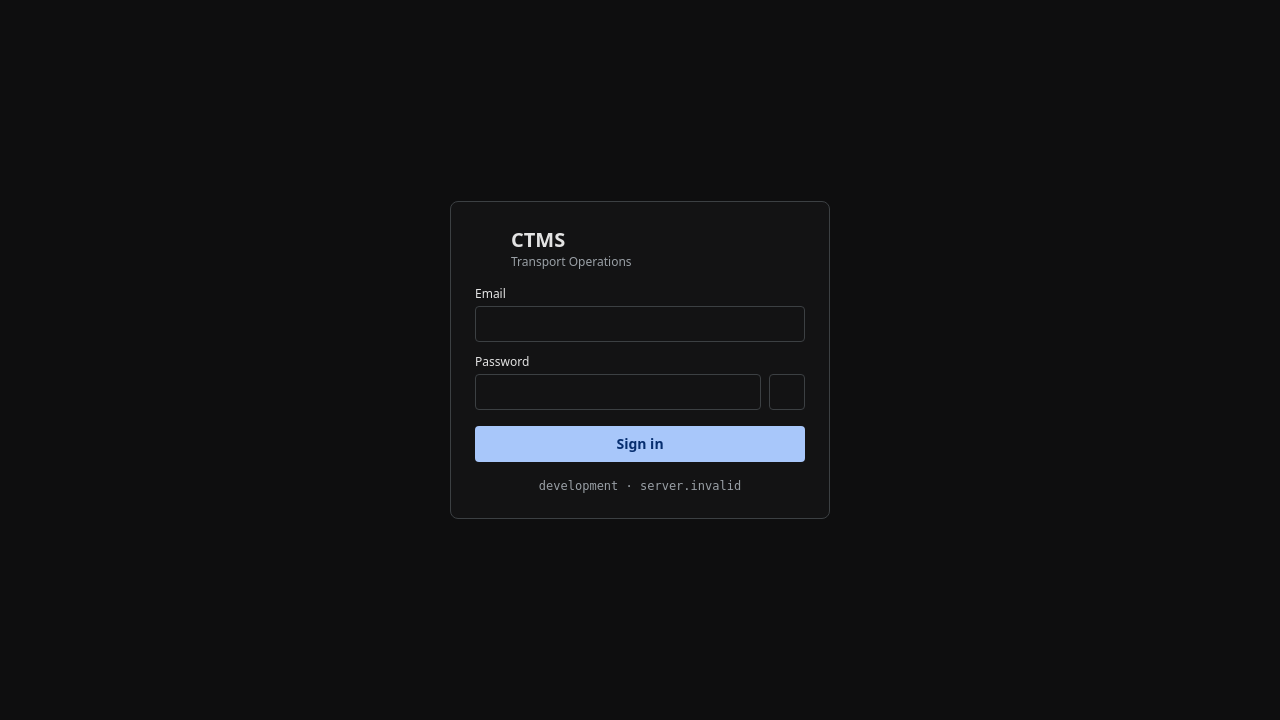
it: signing in › reaches the panel with a valid administrator
This screenshot has width=1280, height=720.
Check: the button "Sign in" is shown, box [475,426,805,462]
In the field labelled "Email": (640,324) [475,306,805,342], type "priya@ctms.example"
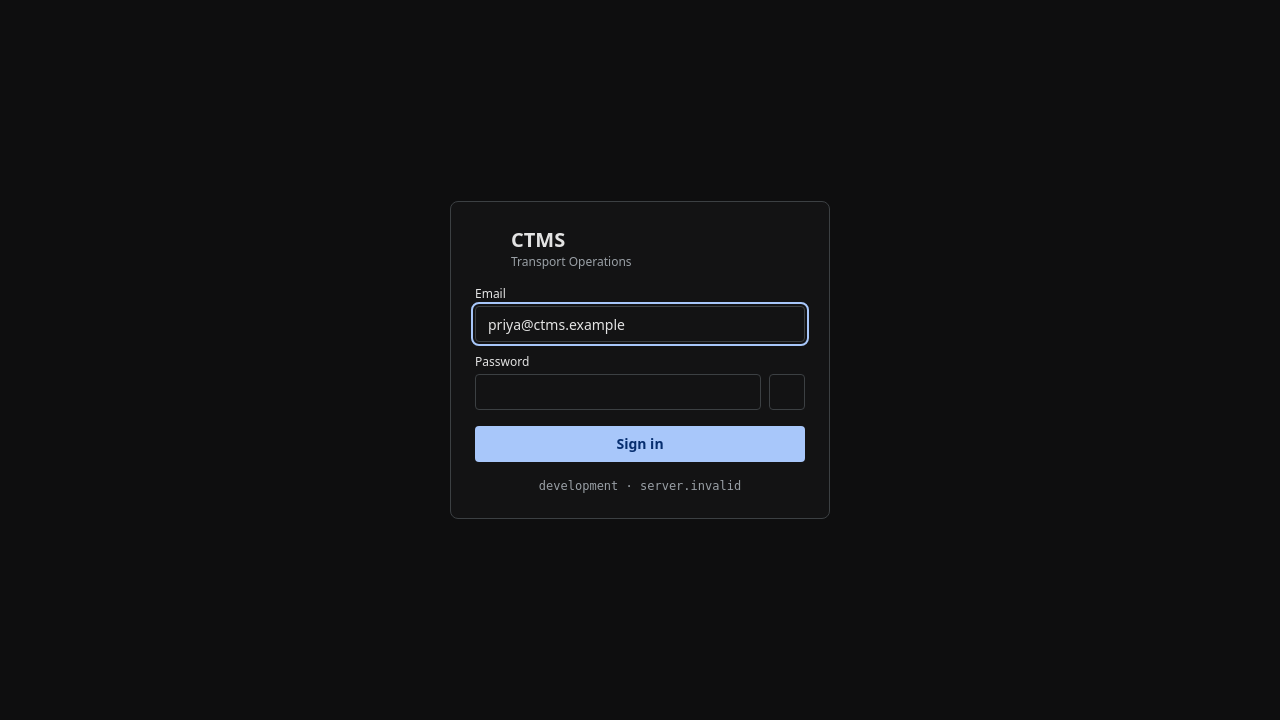
In the password field labelled "Password": (618,392) [475,374,761,410], type "correct-horse"
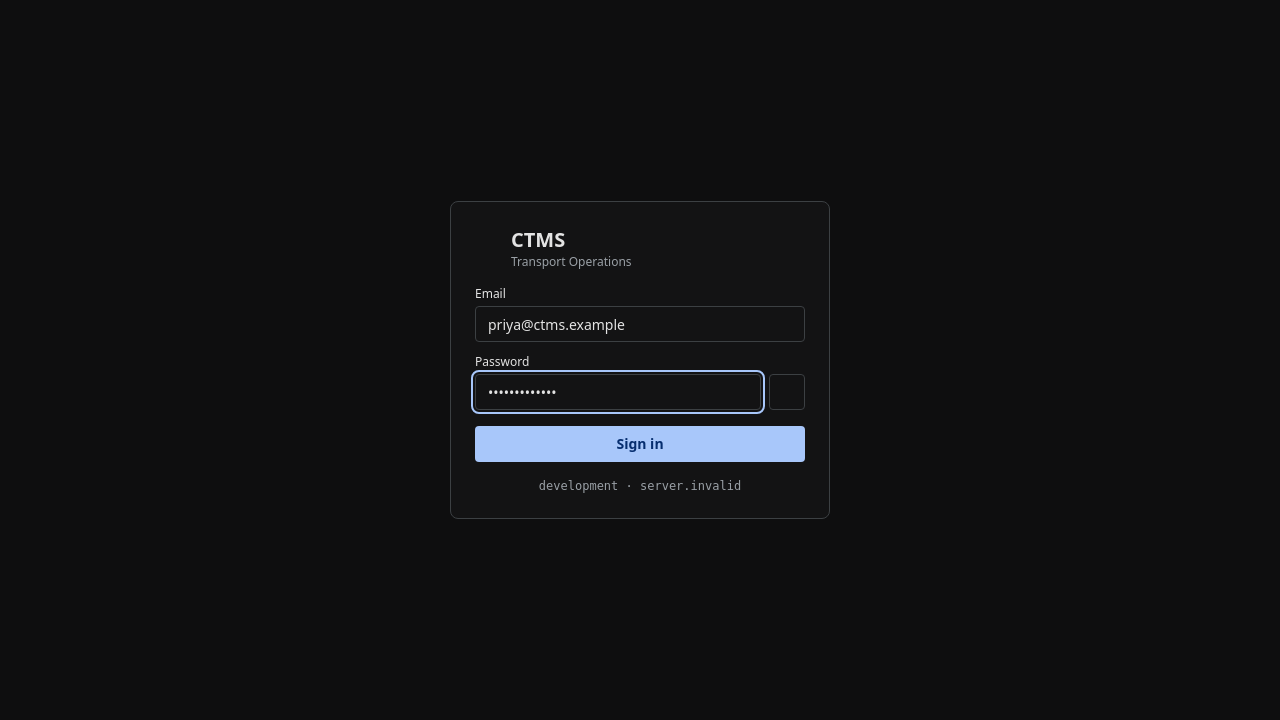
Click the button "Sign in": (640,444) [475,426,805,462]
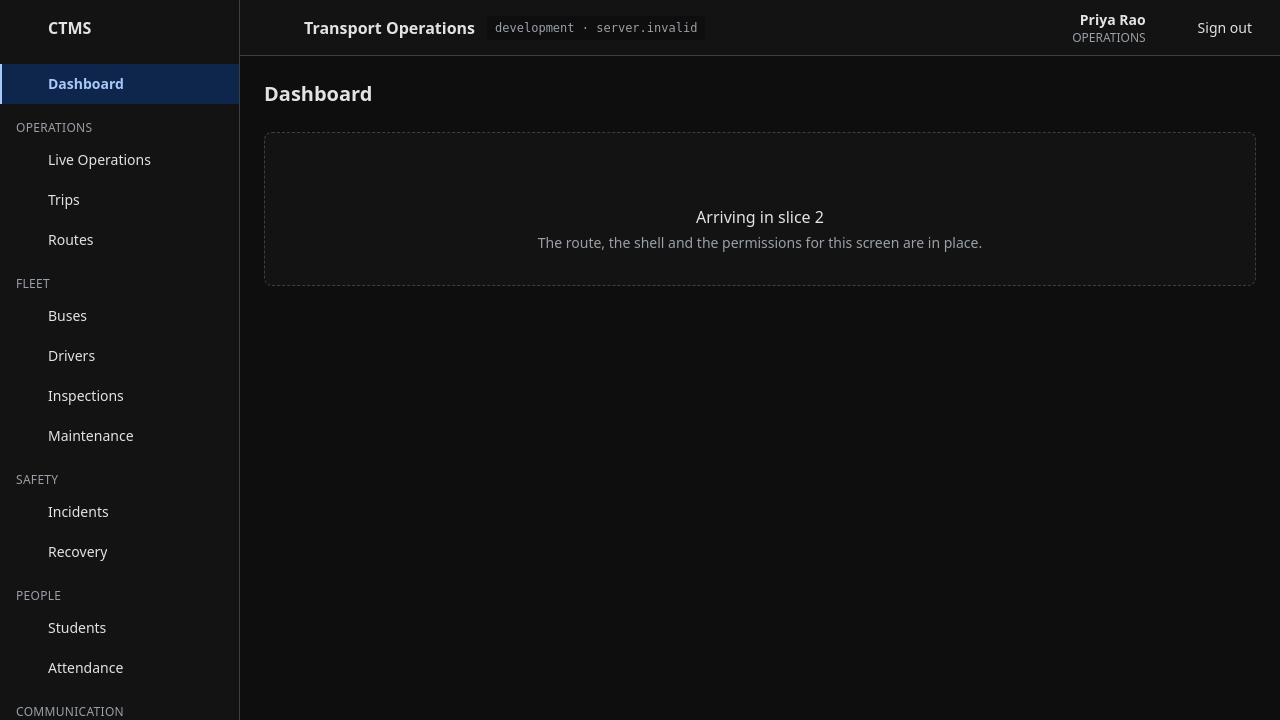
Check: the heading "Dashboard" is shown, box [264,80,372,108]
